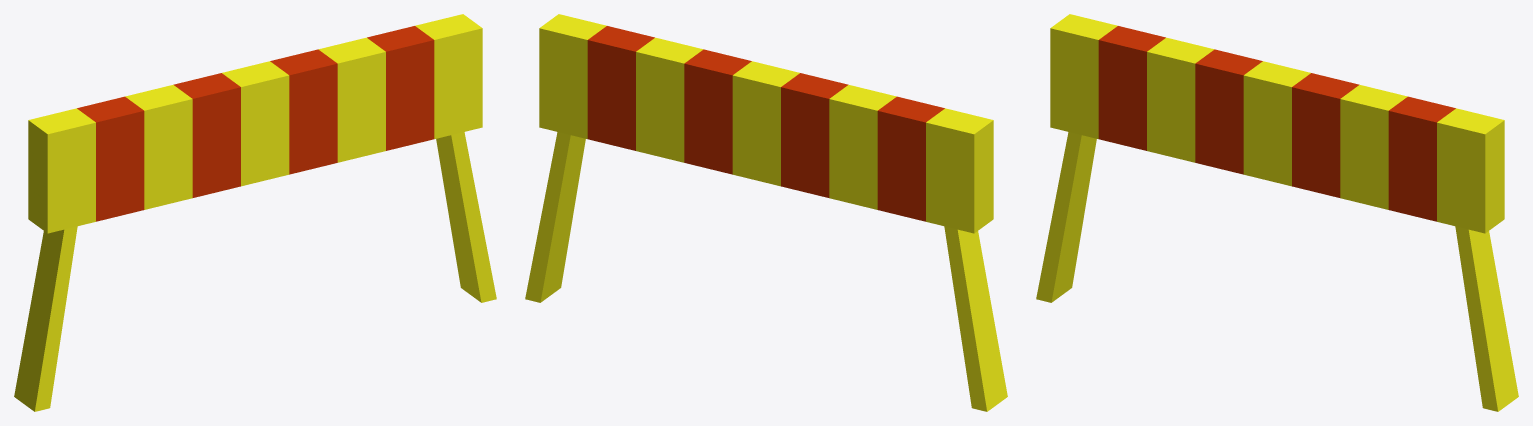
File: RWBarrierHigh.fbx
3 views of the same model, side by side, from view 1: azimuth 30°, elevation 25°; view 2: azimuth 150°, elevation 25°; view 3: azimuth 330°, elevation 25° (orthographic).
Parts seen in each view (by area): view 1: Cube; view 2: Cube; view 3: Cube.
Part boxes in pixels (box(x1,y1,x2,y2)): Cube: box(14, 14, 496, 411); Cube: box(525, 14, 1007, 411); Cube: box(1036, 14, 1518, 411).
Bounding box in the file's own units: 850 × 481 × 65.88.
